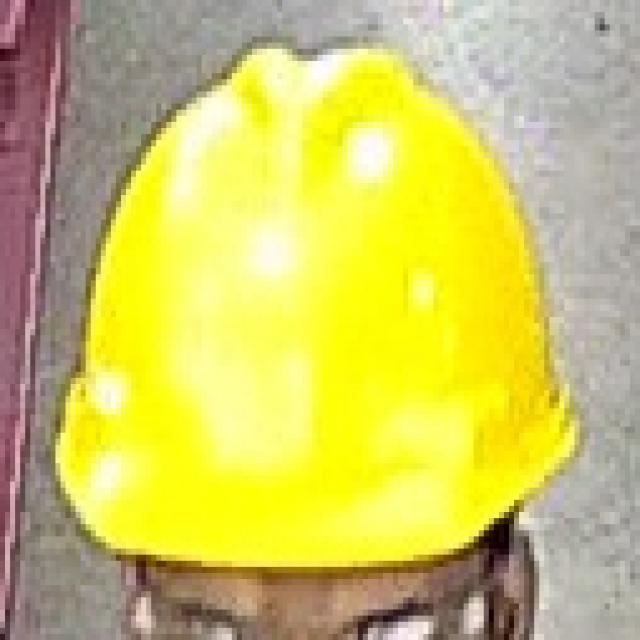yellow helmet: (52, 42, 584, 559)
